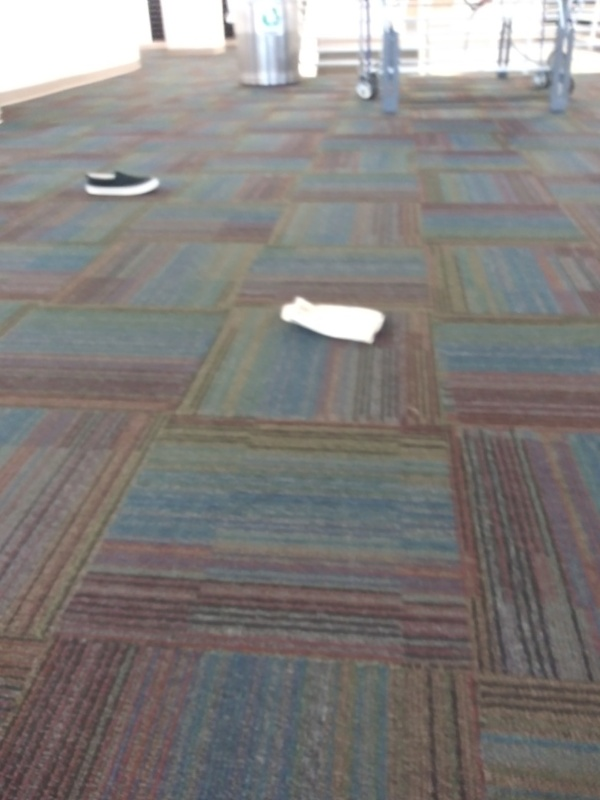bag: (276, 295, 387, 350)
